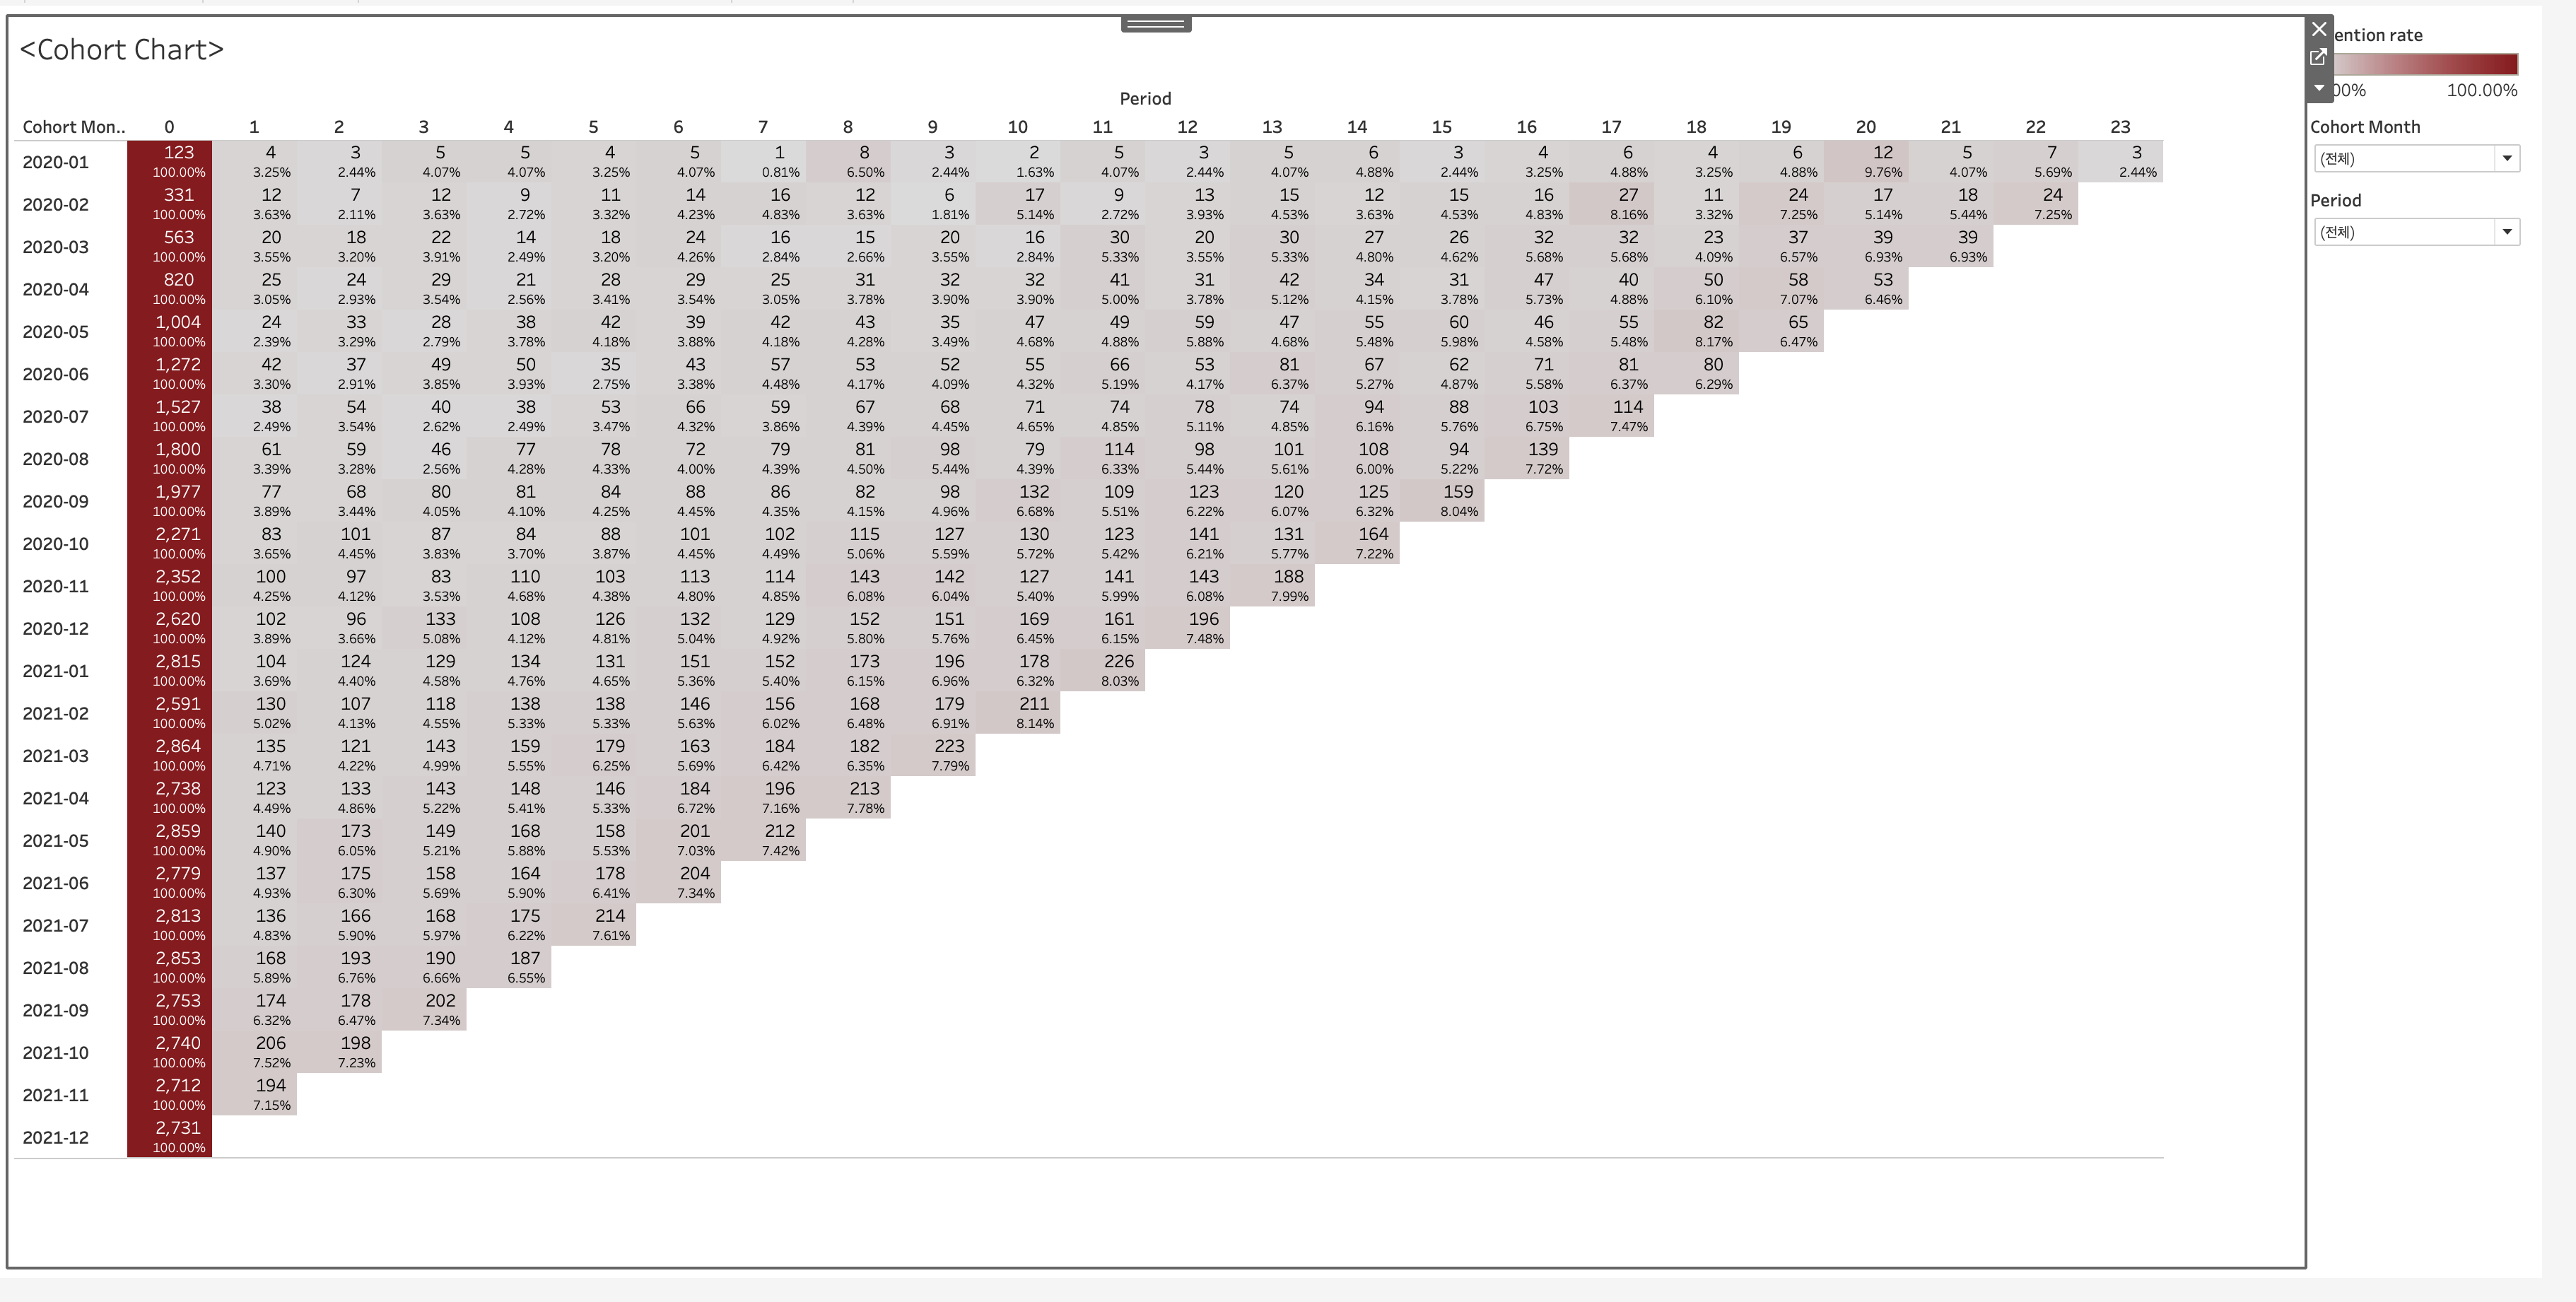

The dashboard page shown, as its layout file describes it:
{"tool":"tableau","page":{"name":"대시보드 2","canvas":[1000,1000],"units":"permille","ordinal":1},"visuals":[{"type":"worksheet","title":"시트 3","mark":"Square","rows":["cohort_month"],"cols":["period"],"box":[4.4,8.9,902.2,982.2]},{"type":"legend","title":"시트 3","param":"[federated.04y7xax0uj4ciy14xvisi06qd1sv].[attr:Calculation_264797605185351682:qk","box":[906.7,8.9,88.9,72.2]},{"type":"filter","title":"시트 3","param":"[federated.04y7xax0uj4ciy14xvisi06qd1sv].[none:cohort_month:nk]","box":[906.7,81.1,88.9,57.8]},{"type":"filter","title":"시트 3","param":"[federated.04y7xax0uj4ciy14xvisi06qd1sv].[none:period:ok]","box":[906.7,138.9,88.9,57.8]}]}

Visuals, with their boxes on the dashboard's canvas, which has no fixed pixel size, in thousandths of its width and height (x1, y1, x2, y2). These are canvas units, not pixel positions in the 2576x1302 screenshot, which may show the page scaled, cropped or inside an application window:
"시트 3" worksheet (Square marks): rect(4, 9, 907, 991)
"시트 3" legend: rect(907, 9, 996, 81)
"시트 3" filter: rect(907, 81, 996, 139)
"시트 3" filter: rect(907, 139, 996, 197)
